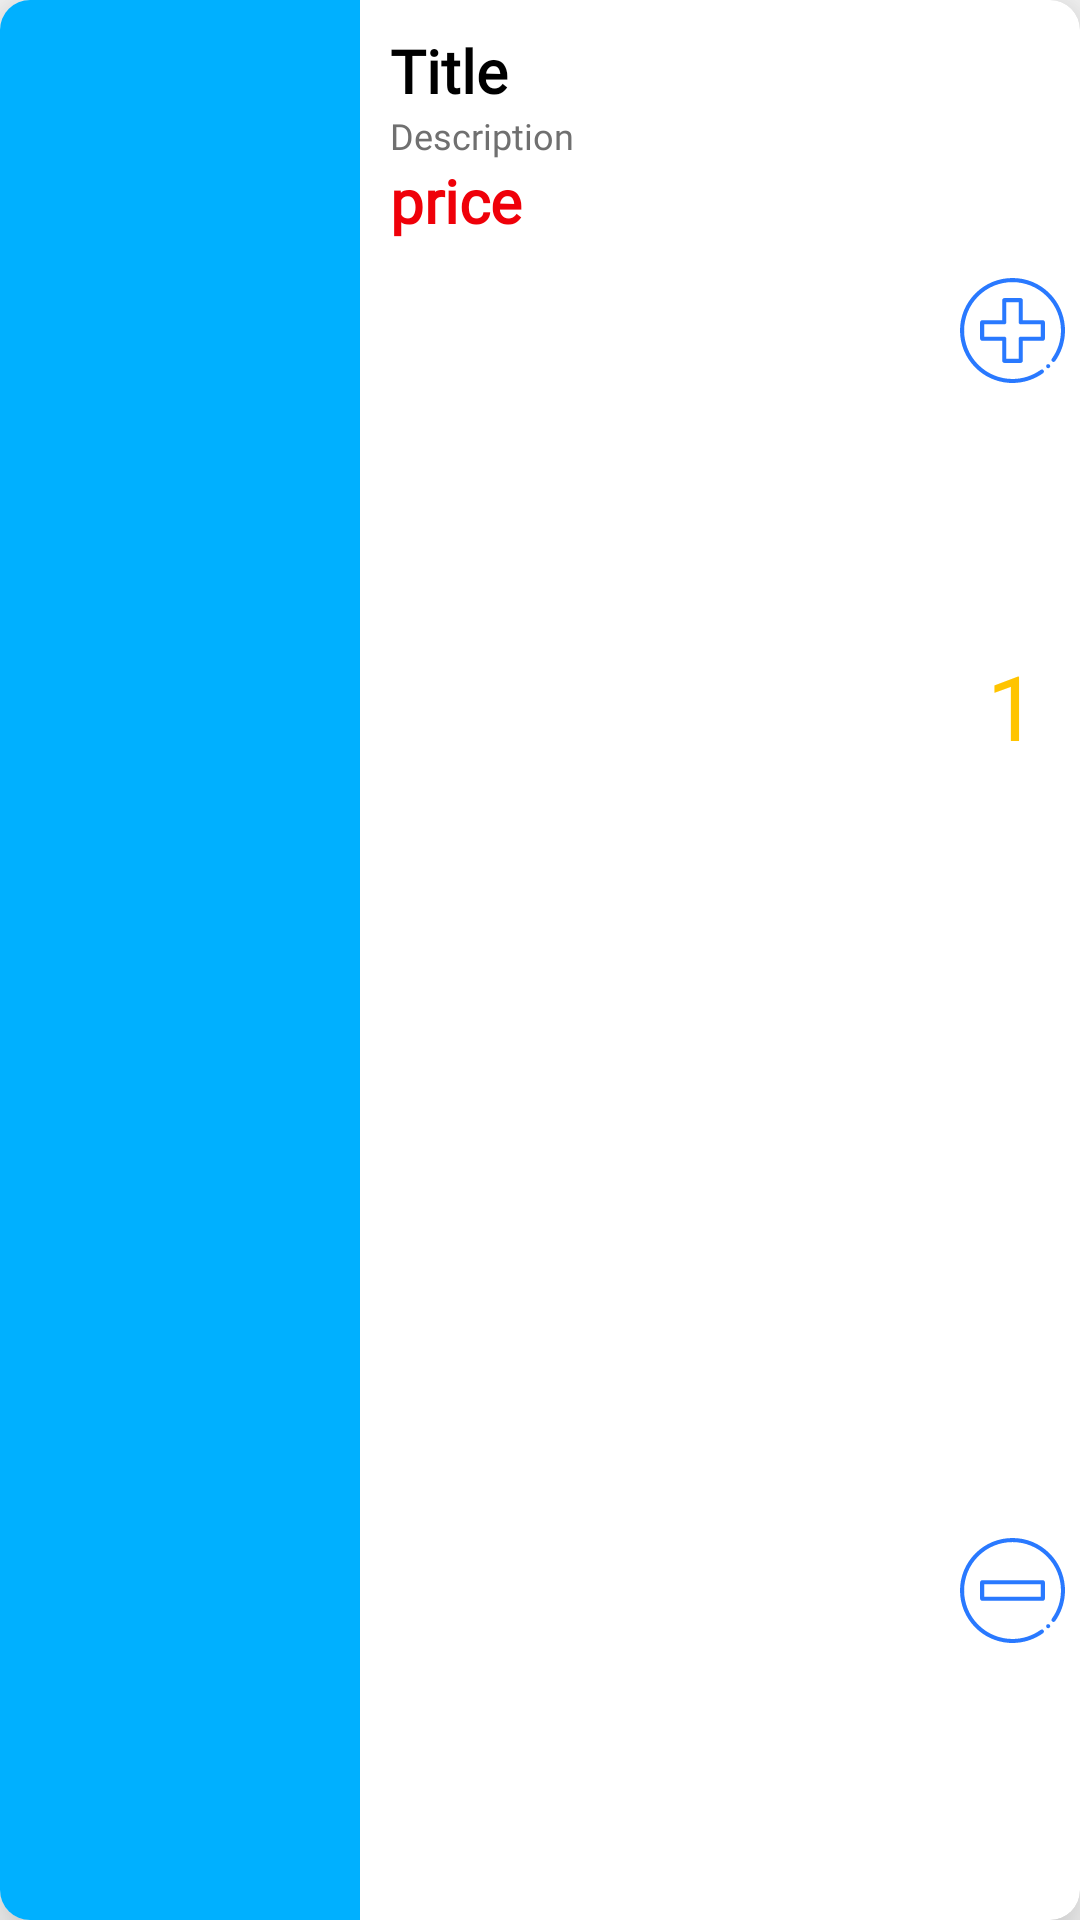

Where icons sit on this 1080*1920 app screen, as (x1, y1, x2, y2):
add: (960, 278, 1065, 383)
minus: (960, 1538, 1065, 1643)
